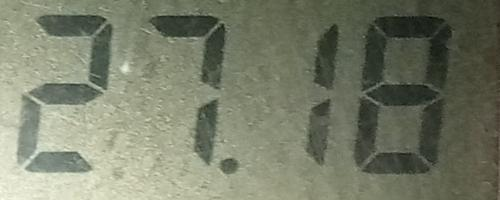.: (217, 151, 243, 182)
